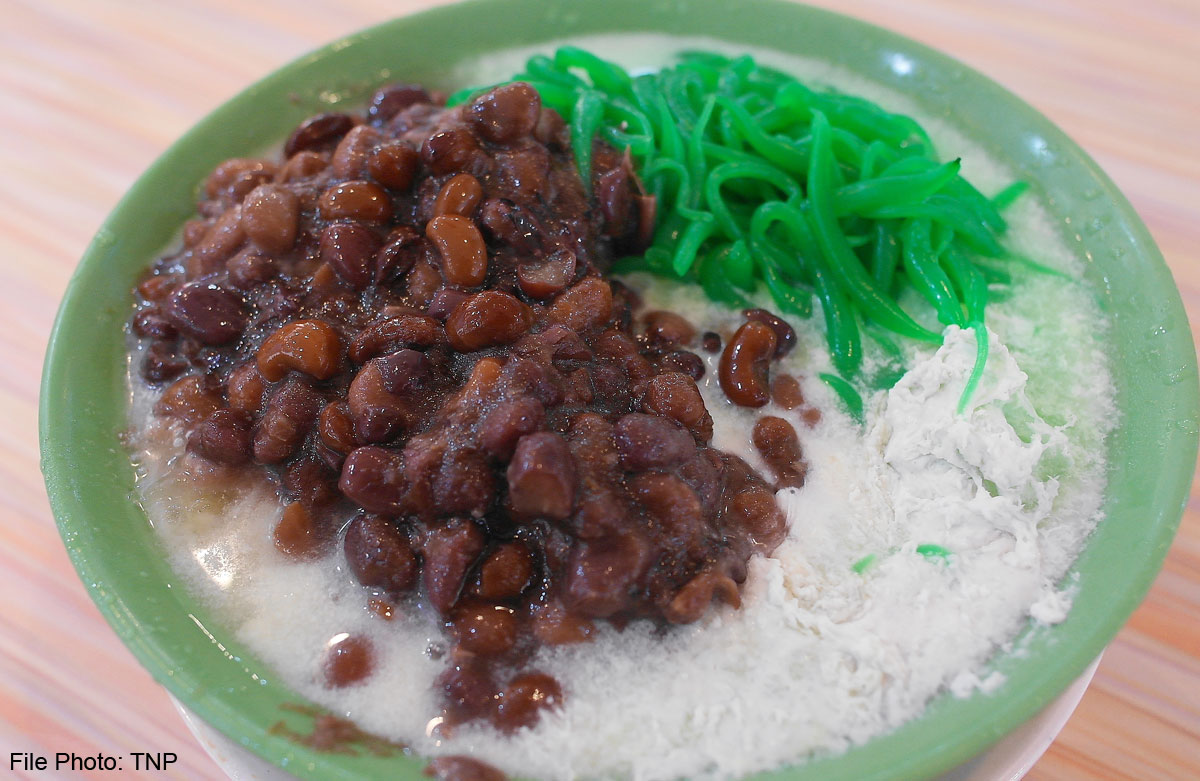Chendol: (104, 33, 1149, 726)
